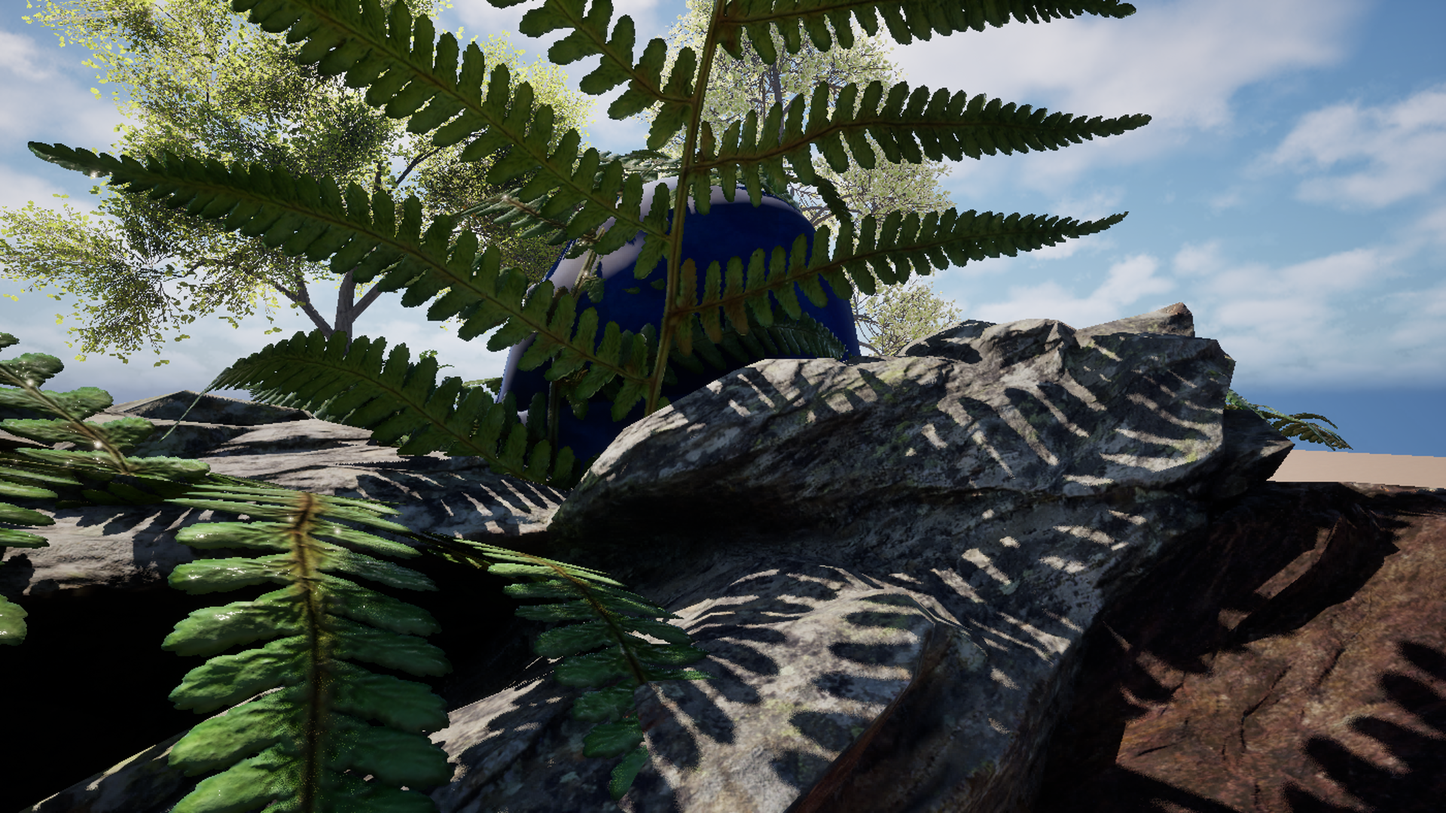Piplup: (385, 0, 1205, 813)
